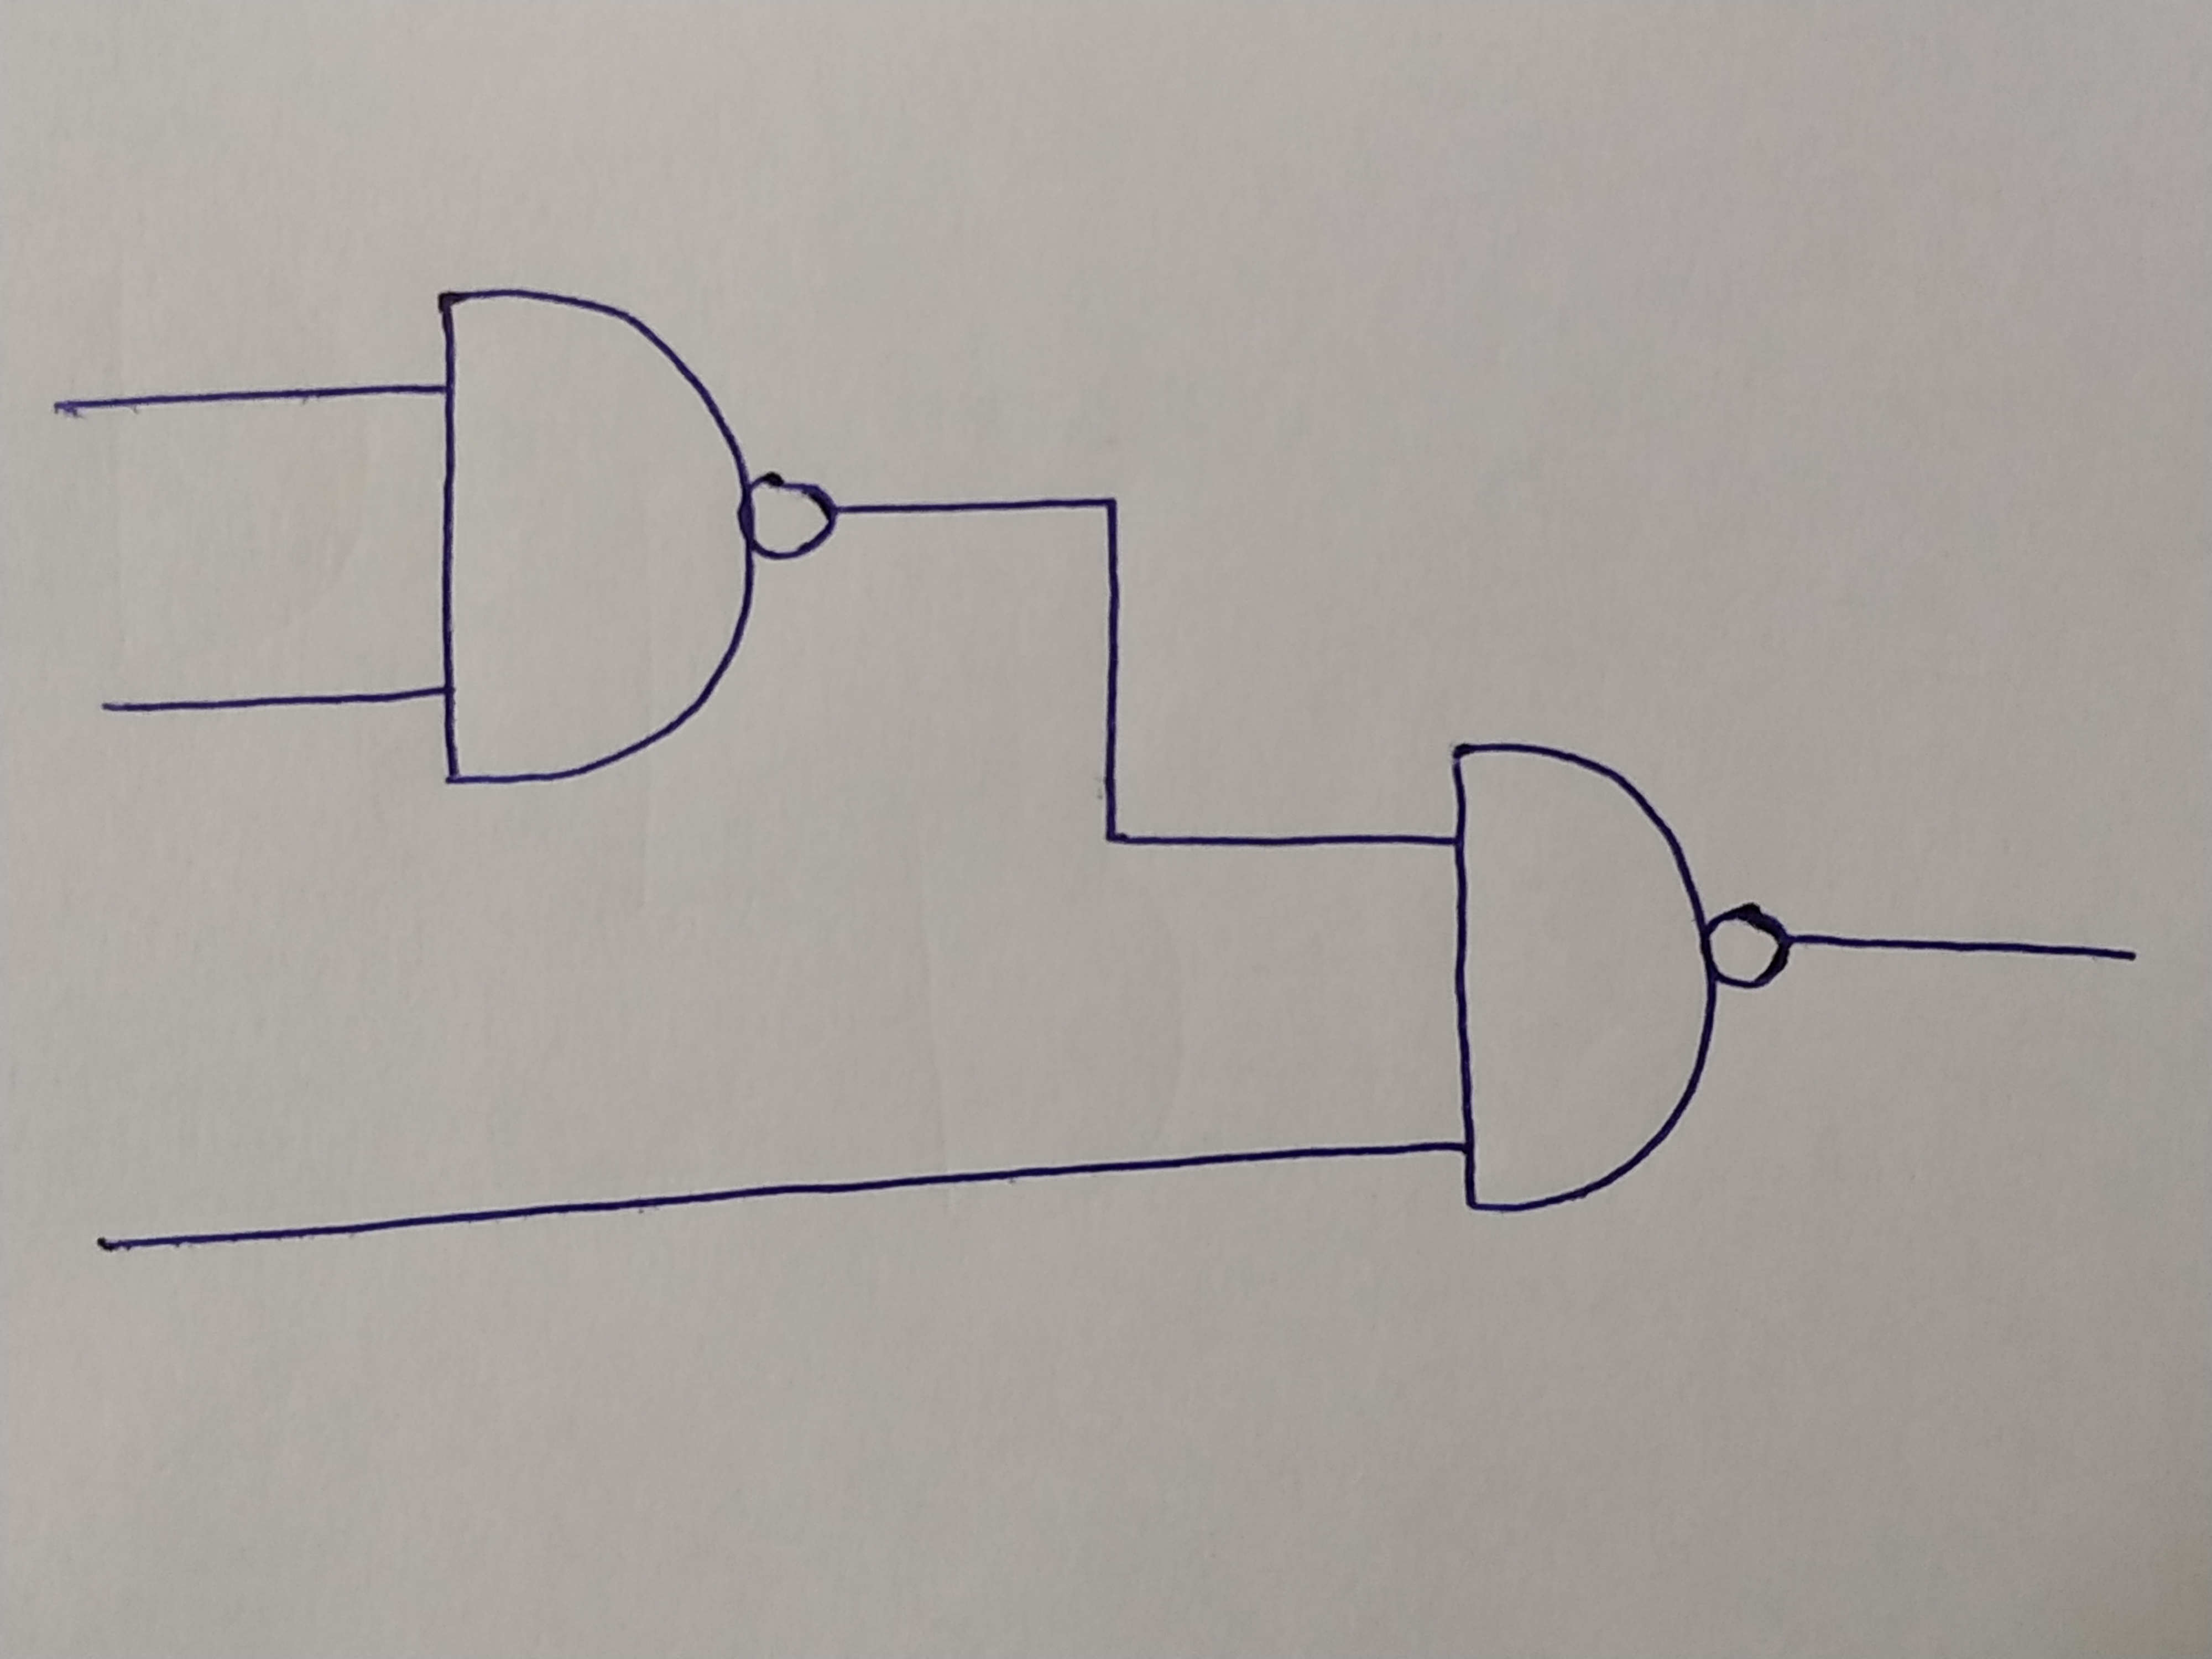and: (425, 289, 751, 786), (1453, 742, 1710, 1206)
not: (751, 477, 833, 563), (1707, 908, 1785, 992)
